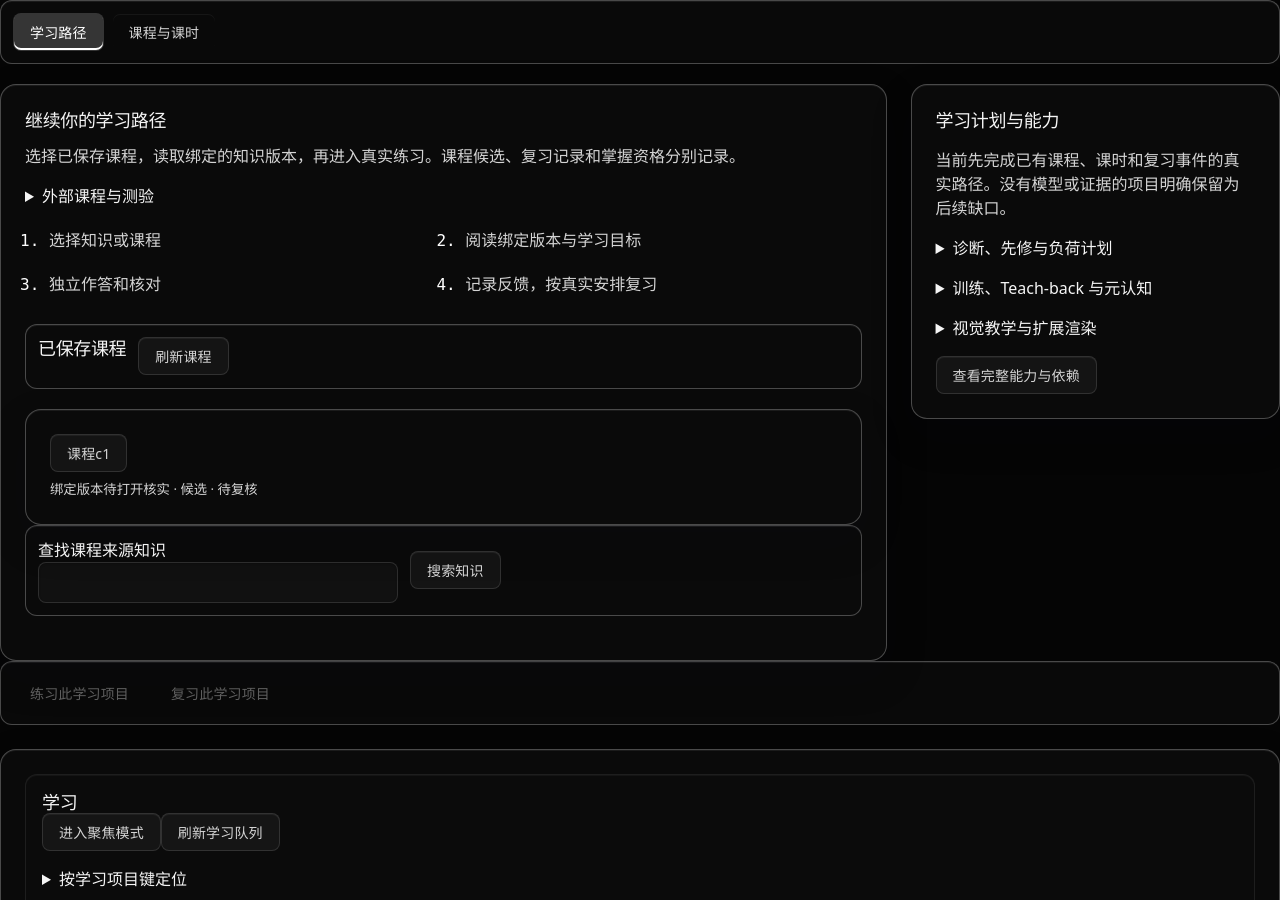
Test: does not treat rejected knowledge as a usable course source
This screenshot has width=1280, height=900.
Click the button "搜索知识" at {"x": 455, "y": 570}, box top-left (410, 551), bottom-right (501, 589)
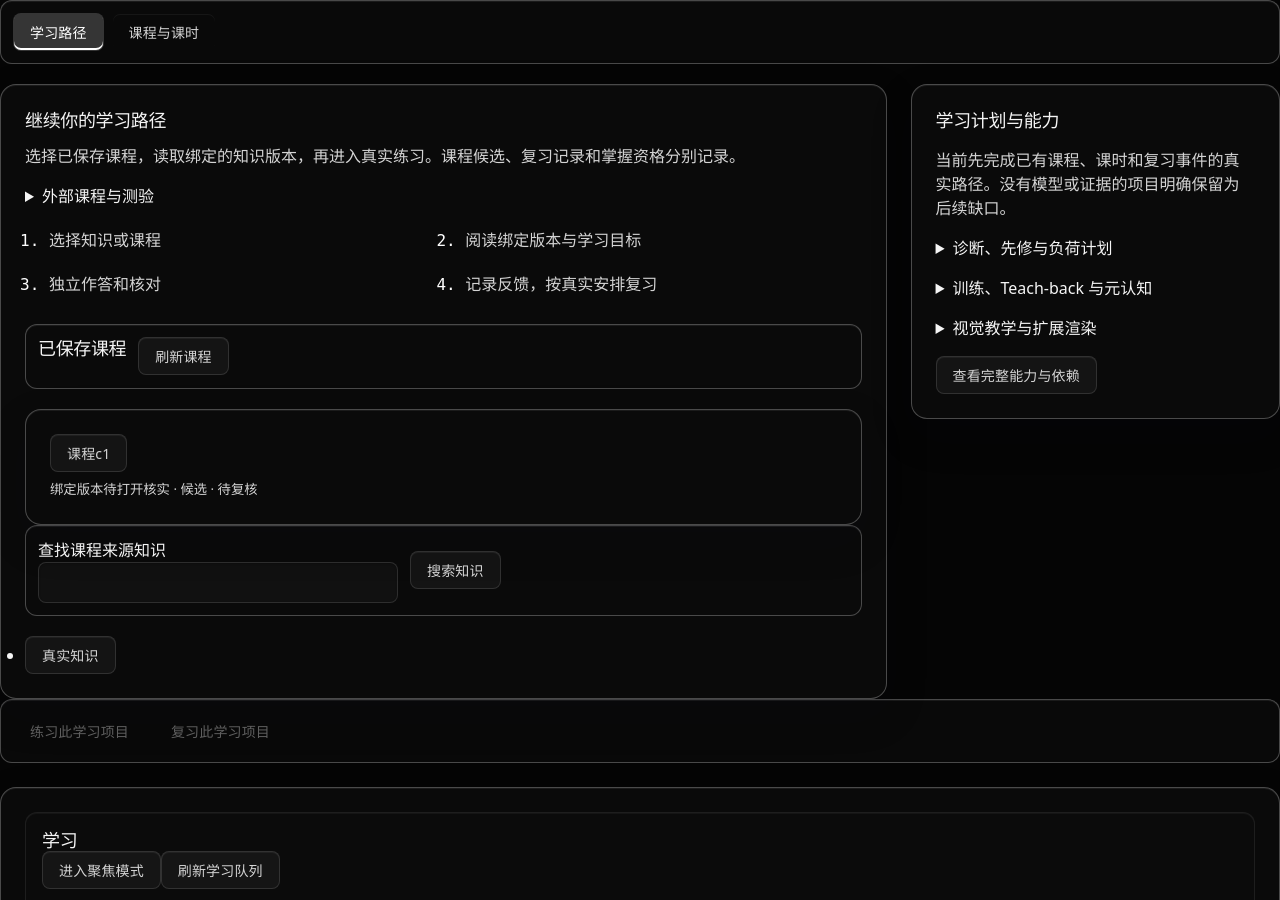
Click the button "真实知识" at {"x": 70, "y": 655}, box top-left (25, 636), bottom-right (116, 674)
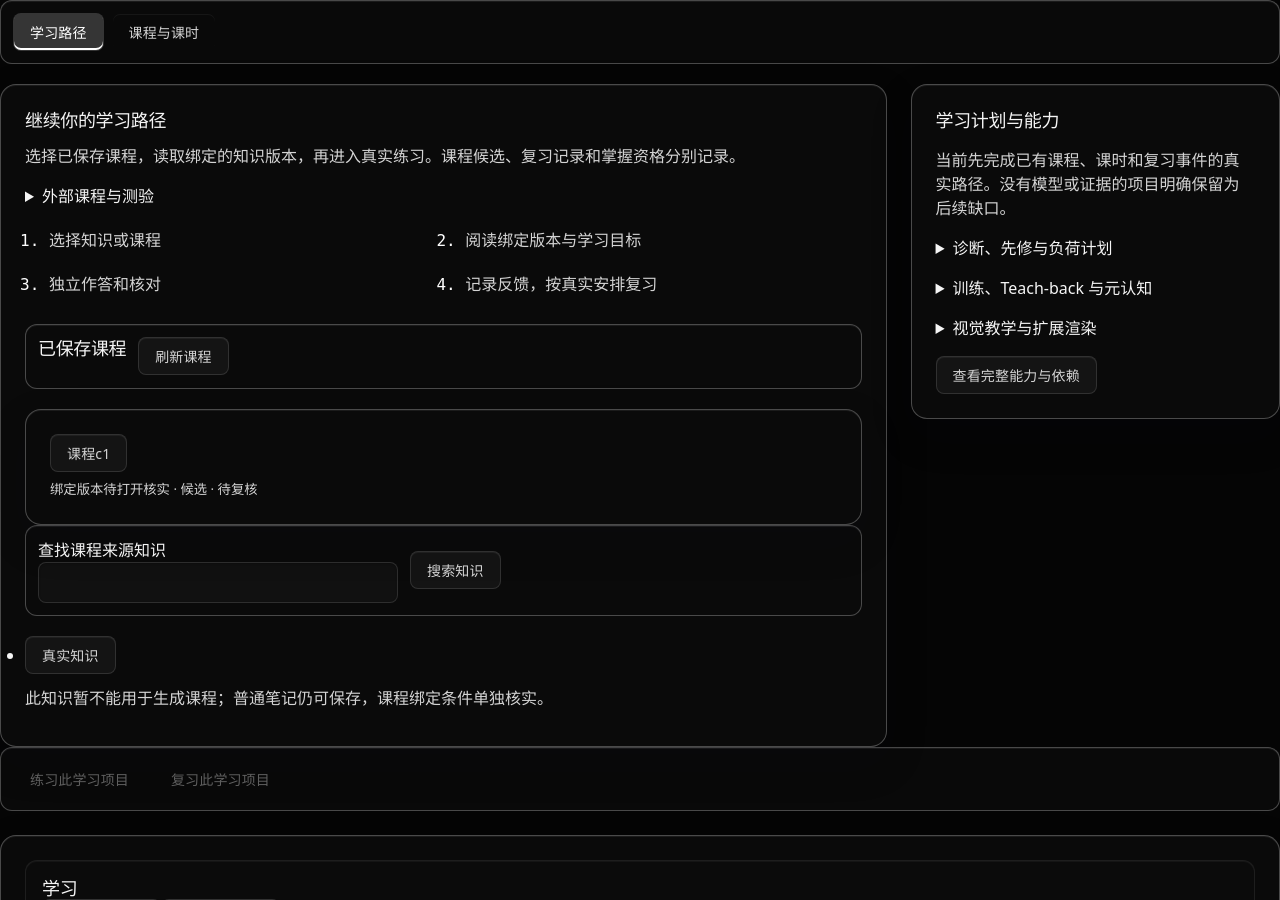
Check: the text "此知识暂不能用于生成课程；普通笔记仍可保存，课程绑定条件单独核实。" is shown, box top-left (25, 687), bottom-right (553, 709)
